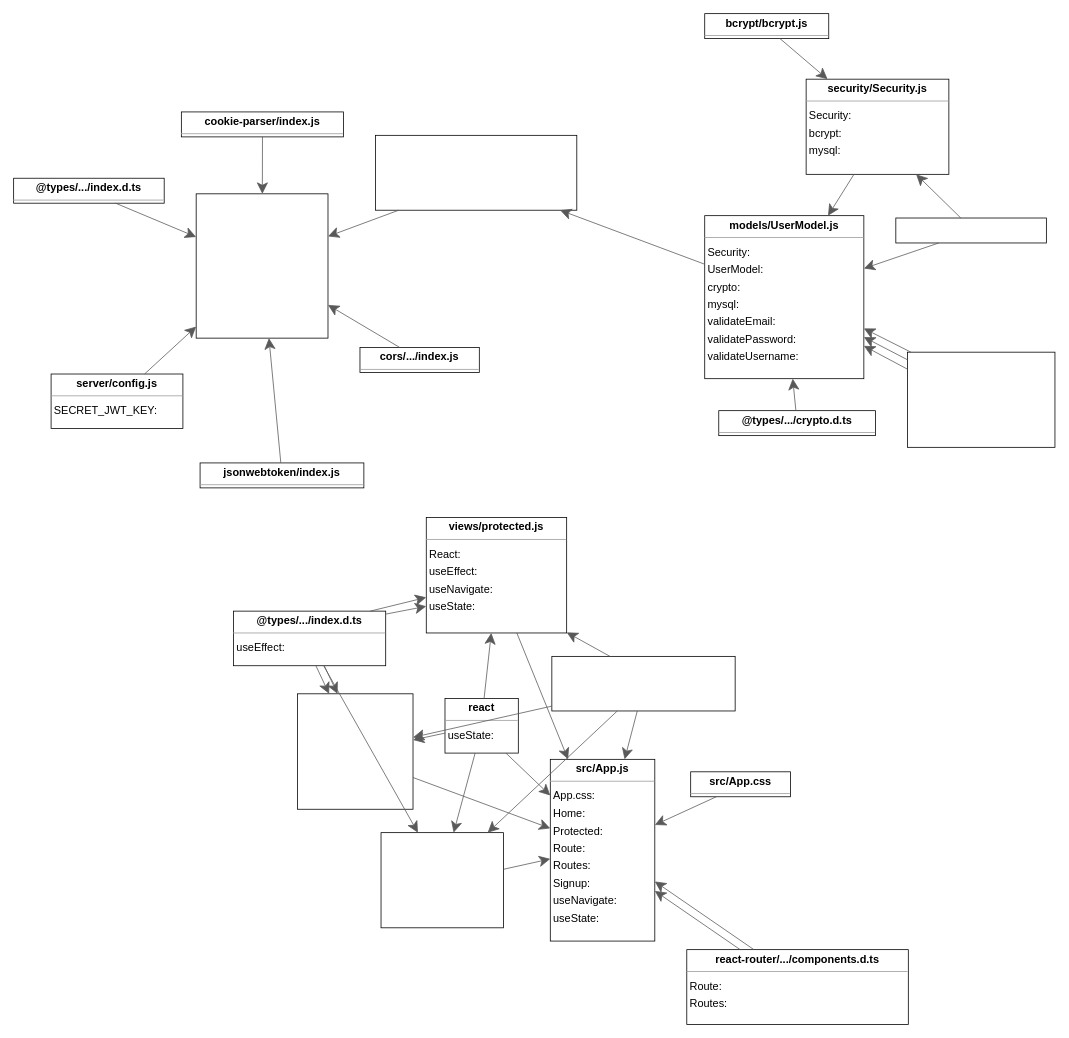
Image size: 1069x1038. Some labels were removed from this diagram. The centre of each missing label's shape, as x and y in pixels:
"controllers/UserModel.js UserModel: UserModel:" belongs at [476,172].
"mysql2/promise.d.ts" belongs at [970,230].
"react-router/.../hooks.d.ts useNavigate:" belongs at [643,683].
"security/Validator.js validateEmail: validatePassword: validateUsername:" belongs at [981,399].
"server/api.js SECRET_JWT_KEY: UserModel: cookieParser: cors: express: jwt:" belongs at [261,265].
"views/home.js React: useEffect: useNavigate: useState:" belongs at [355,751].
"views/signup.js React: useNavigate: useState:" belongs at [441,880].
